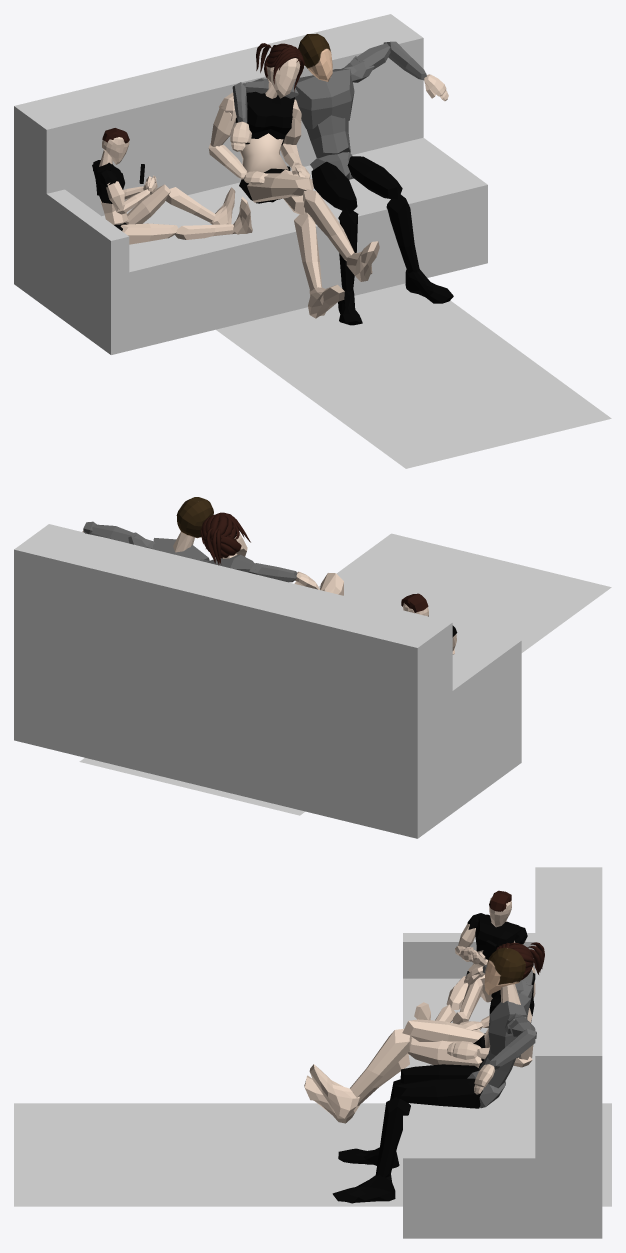
3 renders of one model, top to bottom at view 1: azimuth 30°, elevation 25°; view 2: azimuth 150°, elevation 25°; view 3: azimuth 270°, elevation 25°, orthographic. The views are drawn at different scales.
Parts seen in each view (by area): view 1: Cube, Plane.001, Chest.001, Chest, Cube.020, Cube.008, Cube.013, Stomach.001, Cube.016, Cube.025, Cube.007, Stomach (+15 smaller); view 2: Cube, Plane.001, Hair_NurbsPath.031, Head.001, Chest.001, Cube.021, Cube.031, Head.002; view 3: Cube, Plane.001, Cube.016, Cube.008, Cube.013, Head.001, Cube.007, Chest.001, Cube.026, Cube.010, Cube.019, Cube.020 (+7 smaller).
Part boxes in pixels (<box>): Cube: <box>14,14,487,354</box>; Plane.001: <box>216,283,611,468</box>; Chest.001: <box>294,69,354,129</box>; Chest: <box>235,91,294,145</box>; Cube.020: <box>311,161,357,213</box>; Cube.008: <box>303,188,354,260</box>; Cube.013: <box>386,194,419,273</box>; Stomach.001: <box>305,115,350,158</box>; Cube.016: <box>347,156,402,199</box>; Cube.025: <box>294,212,321,291</box>; Cube.007: <box>247,173,313,202</box>; Stomach: <box>240,133,288,179</box>; Cube: <box>14,524,521,838</box>; Plane.001: <box>79,533,611,815</box>; Hair_NurbsPath.031: <box>200,512,250,565</box>; Head.001: <box>176,497,213,538</box>; Chest.001: <box>153,538,209,560</box>; Cube.021: <box>249,563,297,582</box>; Cube.031: <box>84,524,136,543</box>; Head.002: <box>401,593,428,616</box>; Cube: <box>403,867,602,1238</box>; Plane.001: <box>14,1103,611,1206</box>; Cube.016: <box>394,1078,482,1108</box>; Cube.008: <box>350,1029,411,1097</box>; Cube.013: <box>375,1096,410,1177</box>; Head.001: <box>484,947,525,995</box>; Cube.007: <box>402,1019,484,1043</box>; Chest.001: <box>488,992,530,1057</box>; Cube.026: <box>309,1064,359,1118</box>; Cube.010: <box>332,1174,395,1203</box>; Cube.019: <box>407,1037,482,1067</box>; Cube.020: <box>400,1064,479,1083</box>.
Size of the model in its own units: 1063 by 622 by 1423.
